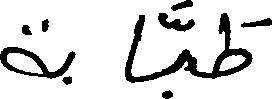X: (215, 8, 271, 82), (0, 14, 46, 81), (125, 10, 143, 87), (179, 0, 192, 79), (65, 46, 74, 89)
